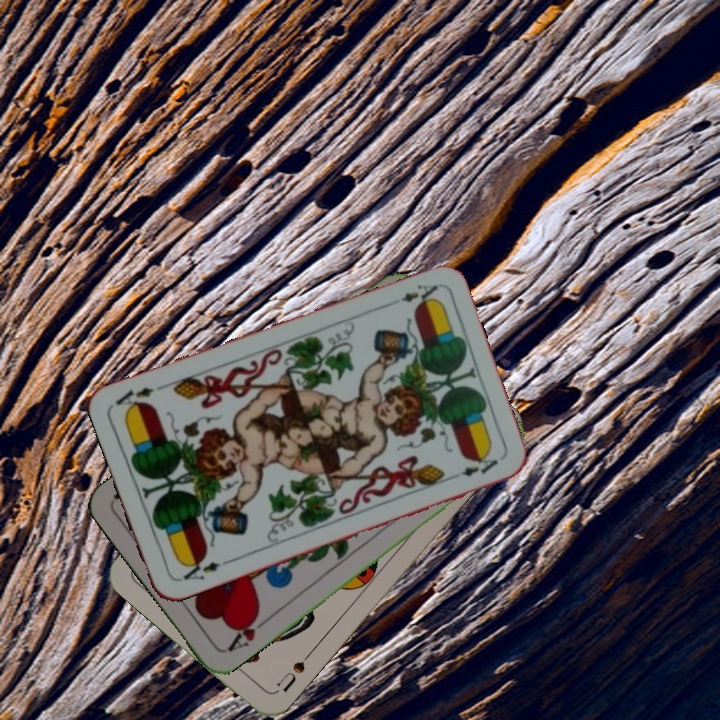EA: (384, 280, 440, 310), (174, 554, 223, 585)
HA: (223, 607, 272, 655)
SU: (271, 647, 315, 696)
